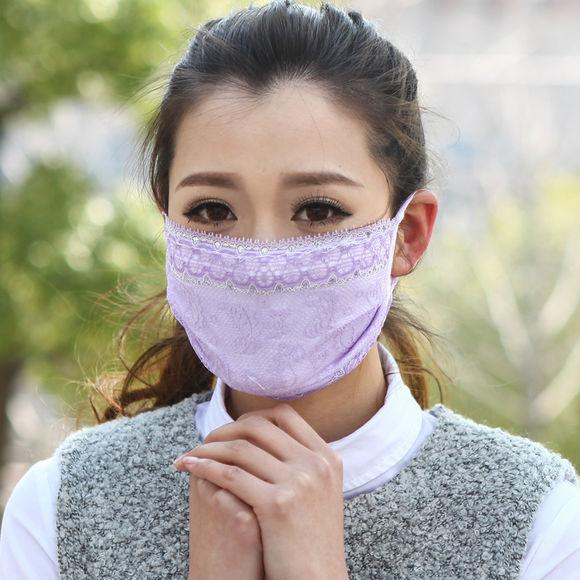OK: (160, 170, 394, 400)
